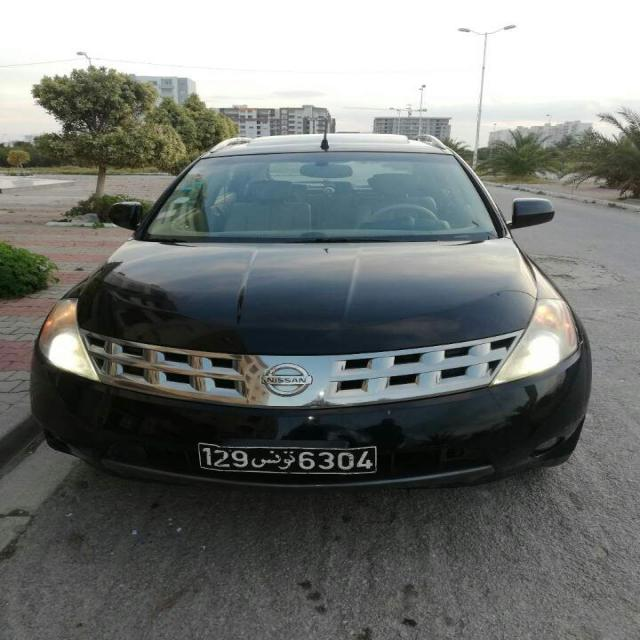LP: (194, 442, 378, 476)
